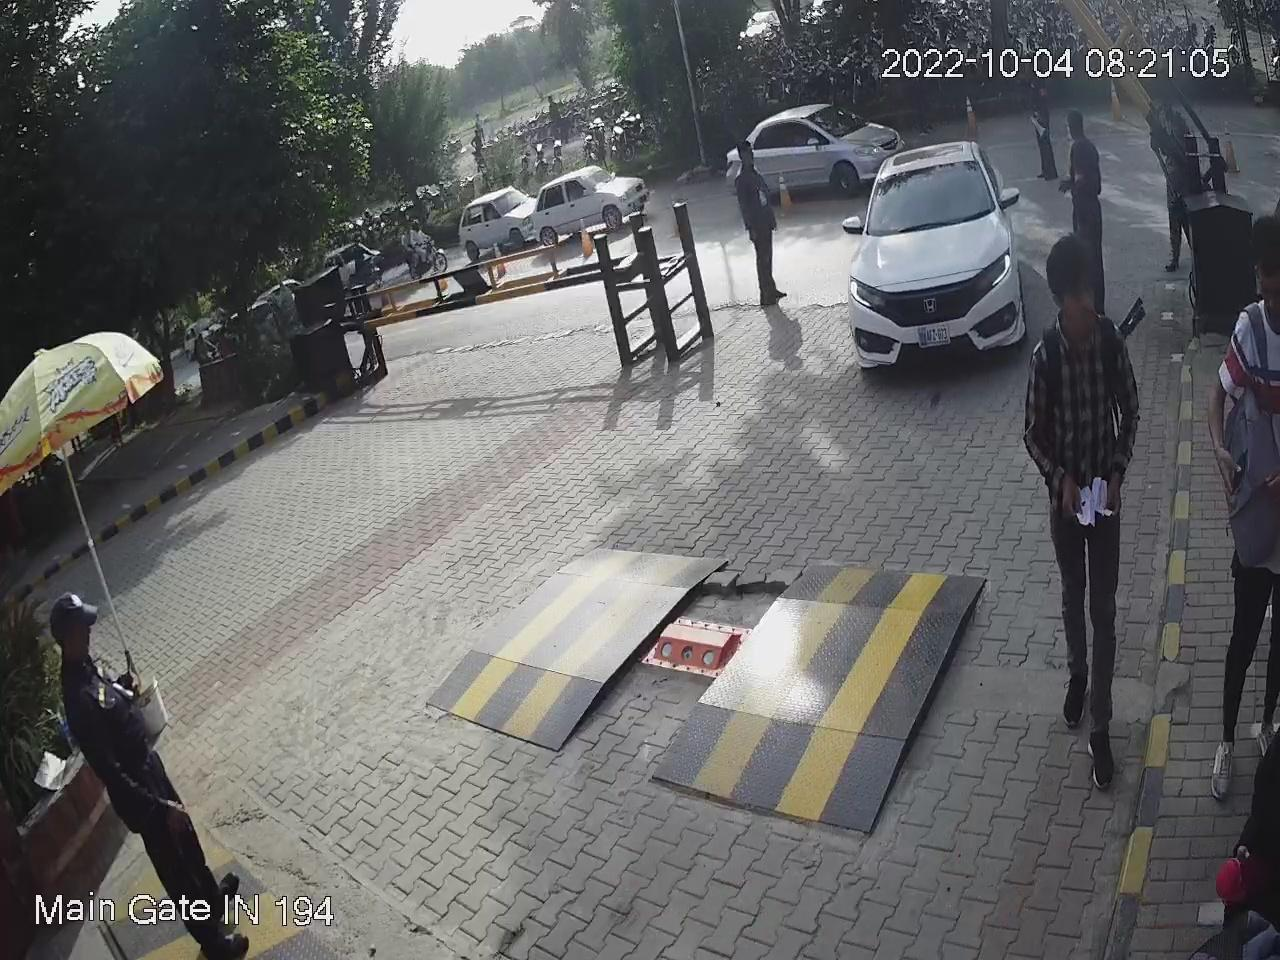windshield: (861, 152, 1003, 242)
